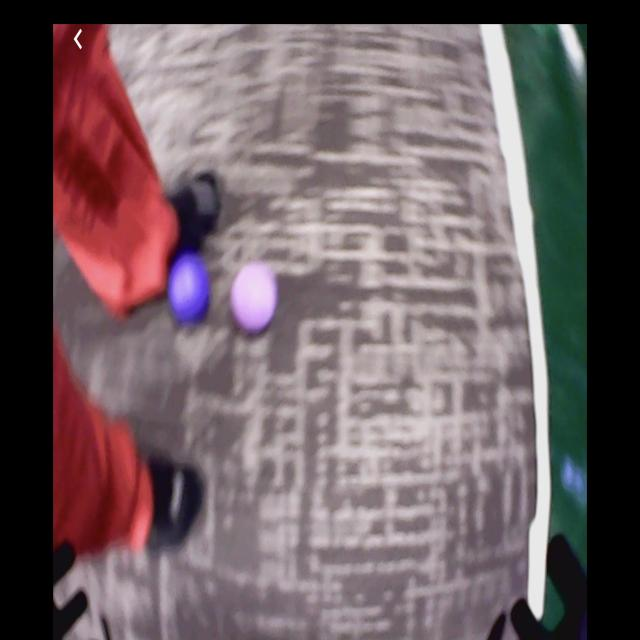ball: (231, 267, 275, 330), (171, 258, 210, 321)
